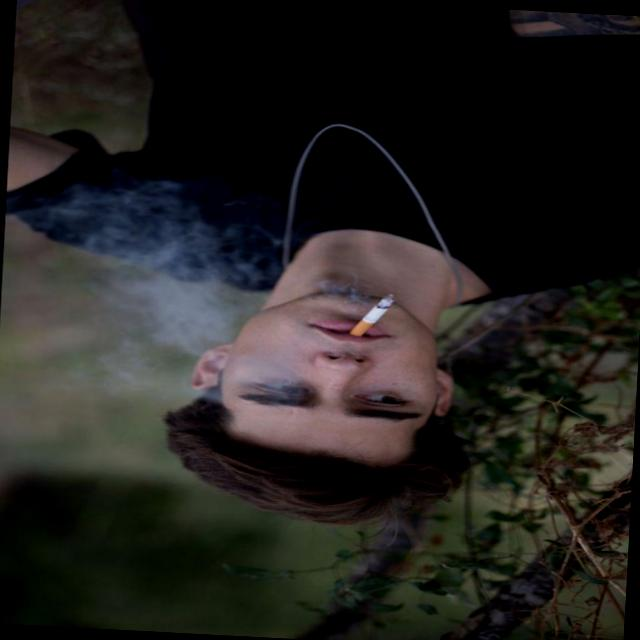cigarette: (338, 274, 410, 356)
